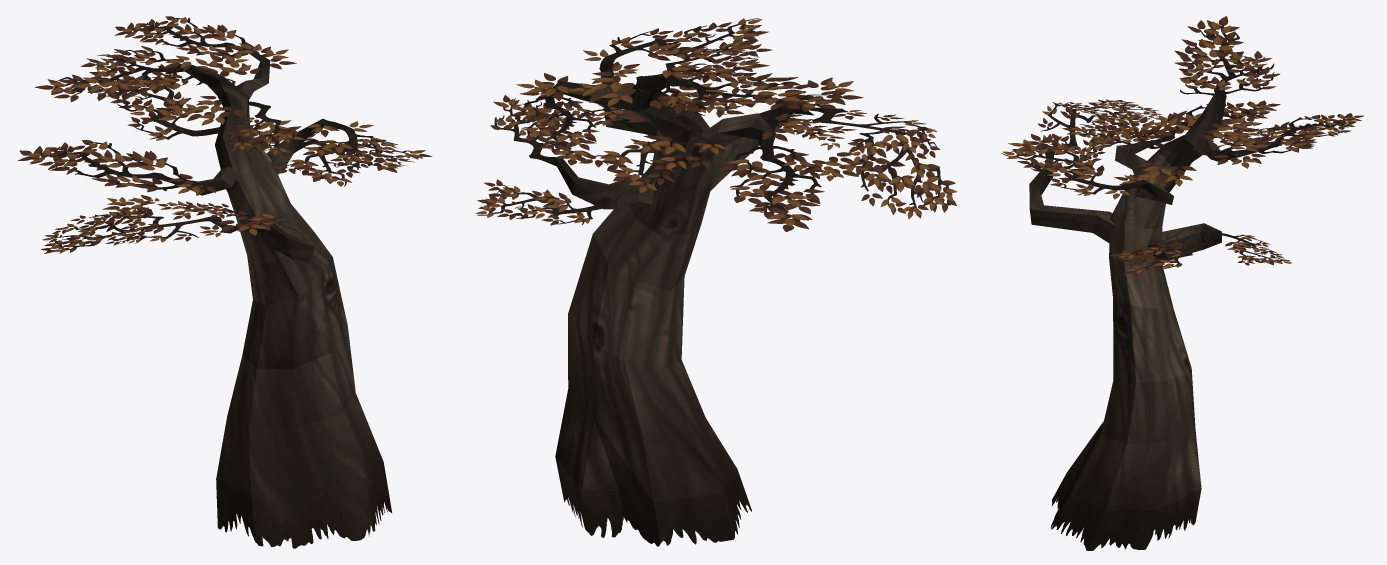
The model's file is cherrytree_dead_01.fbx.
The picture shows the model from 3 angles, left to right: view 1: azimuth 30°, elevation 25°; view 2: azimuth 150°, elevation 25°; view 3: azimuth 270°, elevation 25°; orthographic projection. The views are drawn at different scales.
Parts seen in each view (by area): view 1: obj1.065; view 2: obj1.065; view 3: obj1.065.
Boxes of the visible parts, left/top/right/bottom form: obj1.065: left=18, top=16, right=432, bottom=548; obj1.065: left=475, top=18, right=956, bottom=546; obj1.065: left=1001, top=16, right=1364, bottom=550.
Size of the model in its own units: 7.51 by 7.78 by 6.58.
